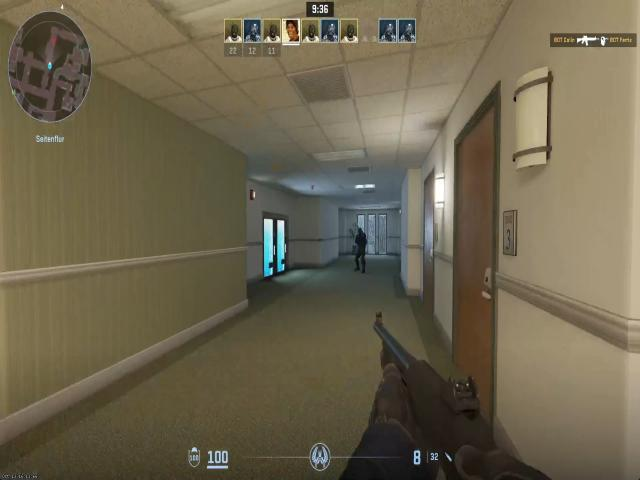CT: (351, 223, 371, 273)
CT-Head: (358, 226, 364, 238)
